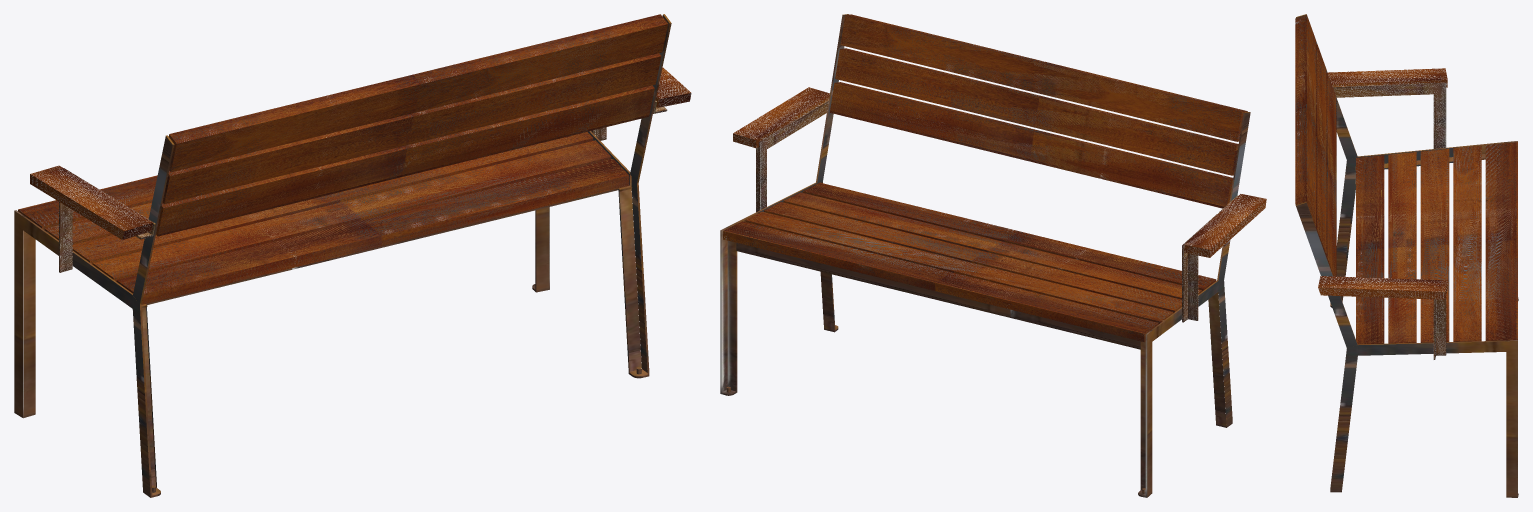
The picture shows the model from 3 angles, left to right: view 1: azimuth 30°, elevation 25°; view 2: azimuth 150°, elevation 25°; view 3: azimuth 270°, elevation 25°; orthographic projection. The views are drawn at different scales.
Parts seen in each view (by area): view 1: mesh9_mesh9-geometry, mesh7_mesh7-geometry, mesh6_mesh6-geometry, mesh5_mesh5-geometry, mesh8_mesh8-geometry, mesh24_mesh24-geometry, mesh10_mesh10-geometry, mesh15_mesh15-geometry, mesh11_mesh11-geometry, mesh4_mesh4-geometry, mesh27_mesh27-geometry, mesh12_mesh12-geometry (+4 smaller); view 2: mesh9_mesh9-geometry, mesh7_mesh7-geometry, mesh6_mesh6-geometry, mesh4_mesh4-geometry, mesh1_mesh1-geometry, mesh10_mesh10-geometry, mesh8_mesh8-geometry, mesh5_mesh5-geometry, mesh24_mesh24-geometry, mesh15_mesh15-geometry, mesh3_mesh3-geometry, mesh11_mesh11-geometry (+5 smaller); view 3: mesh4_mesh4-geometry, mesh1_mesh1-geometry, mesh15_mesh15-geometry, mesh8_mesh8-geometry, mesh5_mesh5-geometry, mesh10_mesh10-geometry, mesh9_mesh9-geometry, mesh20_mesh20-geometry, mesh12_mesh12-geometry, mesh7_mesh7-geometry, mesh6_mesh6-geometry, mesh24_mesh24-geometry (+4 smaller).
Part boxes in pixels (x1,y1,x2,y2): mesh9_mesh9-geometry: (168,14,667,172); mesh7_mesh7-geometry: (162,53,661,204); mesh6_mesh6-geometry: (156,85,654,236); mesh5_mesh5-geometry: (116,159,629,304); mesh8_mesh8-geometry: (92,140,611,281); mesh24_mesh24-geometry: (14,210,160,497); mesh10_mesh10-geometry: (72,132,593,264); mesh15_mesh15-geometry: (532,131,649,378); mesh11_mesh11-geometry: (30,165,153,239); mesh4_mesh4-geometry: (18,175,157,229); mesh27_mesh27-geometry: (133,135,174,304); mesh12_mesh12-geometry: (59,168,155,272); mesh9_mesh9-geometry: (840,14,1247,141); mesh7_mesh7-geometry: (835,48,1238,175); mesh6_mesh6-geometry: (830,82,1233,208); mesh4_mesh4-geometry: (723,221,1158,341); mesh1_mesh1-geometry: (744,211,1173,323); mesh10_mesh10-geometry: (764,202,1181,312); mesh8_mesh8-geometry: (783,192,1201,299); mesh5_mesh5-geometry: (802,182,1216,291); mesh24_mesh24-geometry: (1138,280,1232,497); mesh15_mesh15-geometry: (720,182,838,395); mesh3_mesh3-geometry: (736,243,1140,349); mesh11_mesh11-geometry: (1184,194,1266,257); mesh4_mesh4-geometry: (1485,142,1517,340); mesh1_mesh1-geometry: (1453,145,1481,341); mesh15_mesh15-geometry: (1330,340,1518,497); mesh8_mesh8-geometry: (1388,152,1416,343); mesh5_mesh5-geometry: (1356,155,1384,344); mesh10_mesh10-geometry: (1420,148,1449,342); mesh9_mesh9-geometry: (1295,15,1315,226); mesh20_mesh20-geometry: (1318,276,1447,299); mesh12_mesh12-geometry: (1333,82,1446,148); mesh7_mesh7-geometry: (1315,44,1326,254); mesh6_mesh6-geometry: (1325,72,1336,276); mesh24_mesh24-geometry: (1330,141,1518,307).
Bounding box in the file's own units: 0.8038 × 0.4889 × 0.3388.
